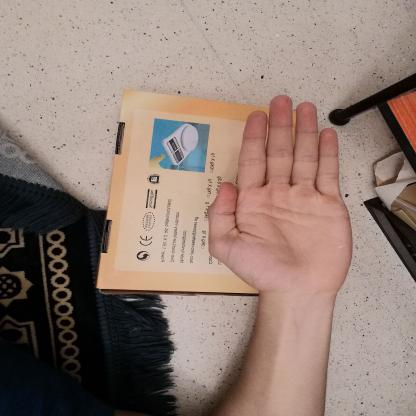SEEN: (197, 87, 366, 302)
